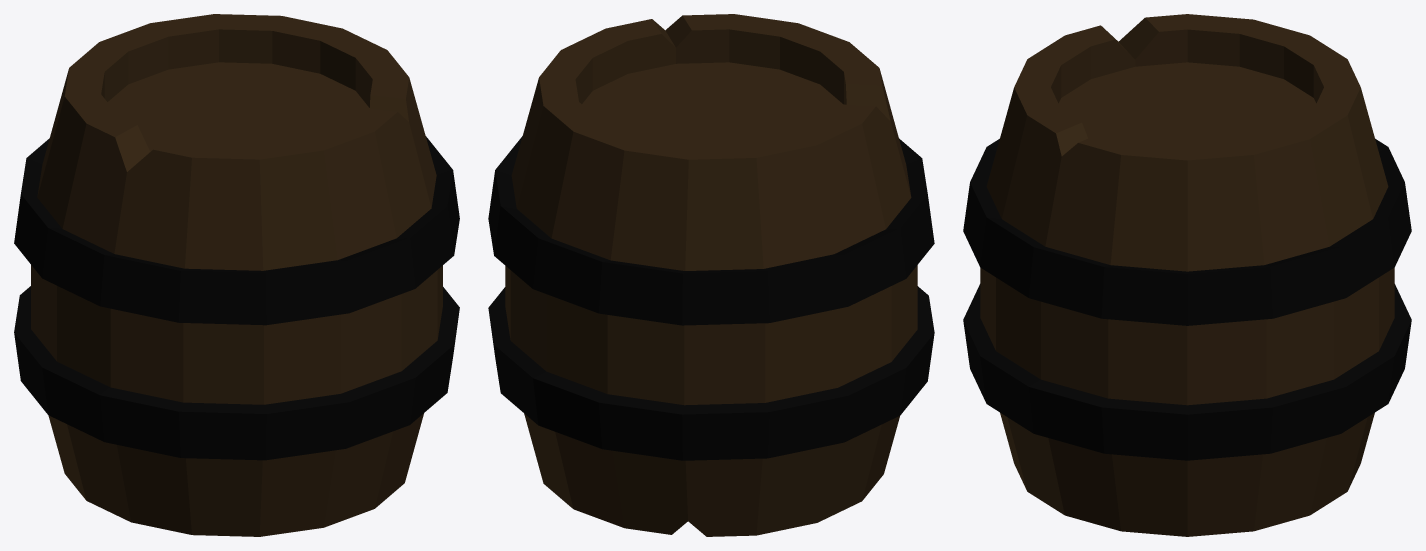
File: barrel.glb
The picture shows the model from 3 angles, left to right: view 1: azimuth 30°, elevation 25°; view 2: azimuth 150°, elevation 25°; view 3: azimuth 270°, elevation 25°; orthographic projection.
Visible parts, largest first — view 1: Barrel; view 2: Barrel; view 3: Barrel.
Part boxes in pixels (x1,y1,x2,y2): Barrel: [14, 14, 459, 536]; Barrel: [488, 14, 934, 536]; Barrel: [963, 14, 1411, 536].
Size of what is drawn, in the model's own units: 0.9217 by 0.8534 by 0.9217.
